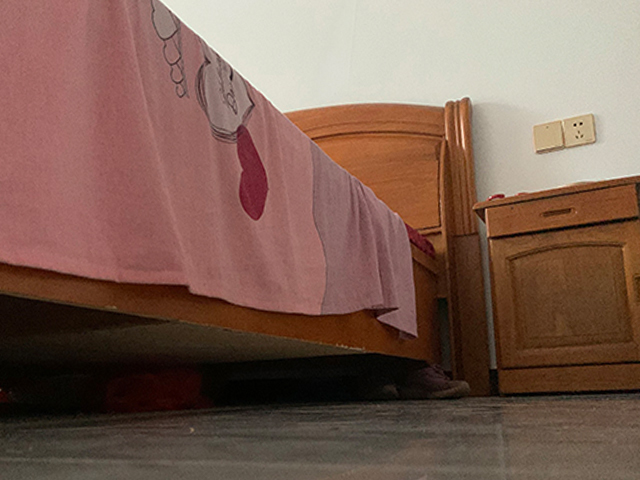bed: (1, 1, 490, 395)
cabinet: (472, 174, 640, 394)
